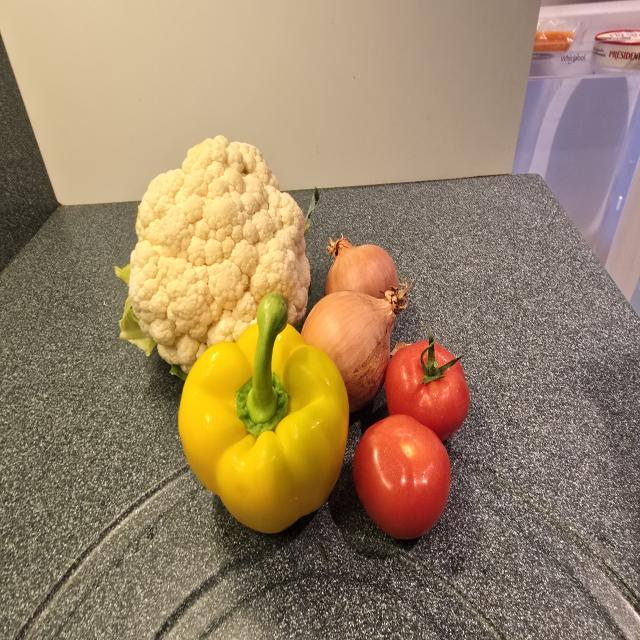Bell Pepper: (178, 292, 349, 533)
Cauliflower: (116, 136, 310, 376)
Onion: (301, 290, 396, 411), (325, 238, 399, 298)
Tomato: (353, 415, 450, 539), (384, 338, 470, 440)
